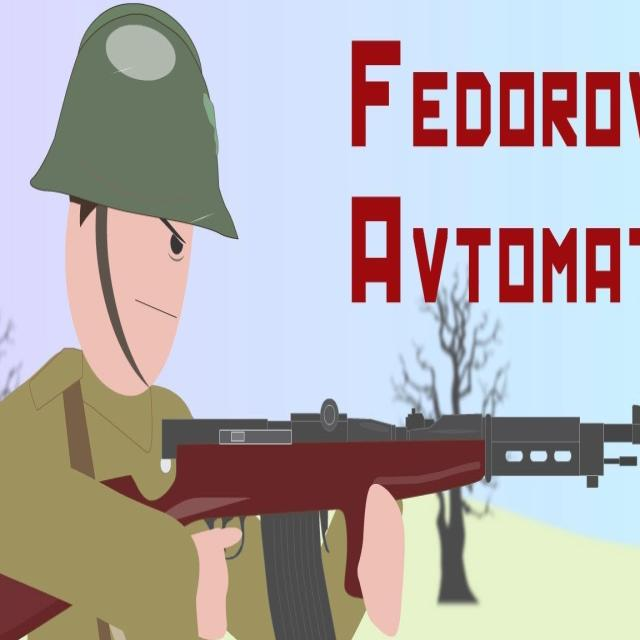Weapon: (102, 398, 640, 640), (0, 573, 68, 640)
